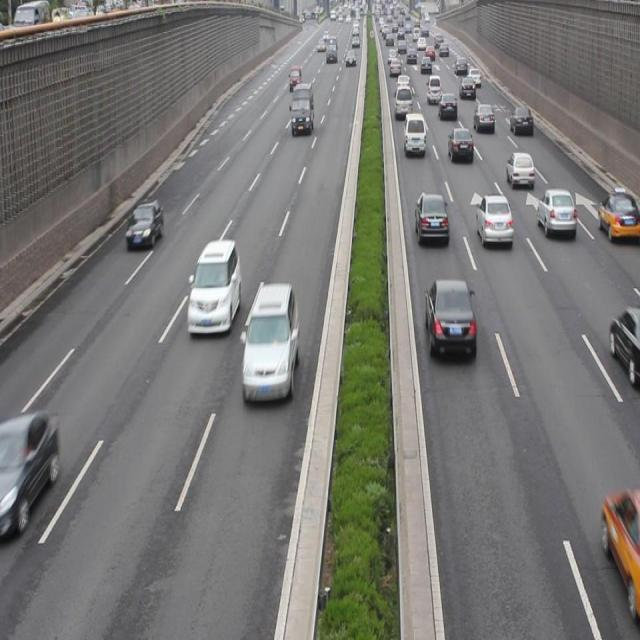car: (1, 414, 58, 541), (244, 282, 294, 403), (187, 239, 242, 339), (600, 486, 640, 618), (423, 276, 476, 364), (607, 307, 640, 384), (596, 188, 640, 242), (124, 197, 164, 249), (473, 197, 513, 249), (535, 188, 575, 240), (415, 191, 448, 248), (505, 152, 530, 187), (404, 114, 425, 155), (447, 128, 472, 158), (509, 106, 530, 132), (474, 106, 493, 129)
truck: (290, 82, 314, 133)
